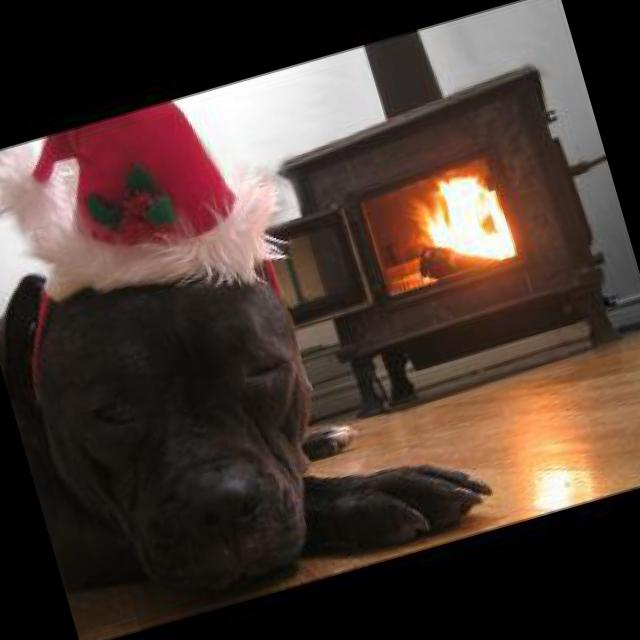fire: (382, 150, 528, 284)
